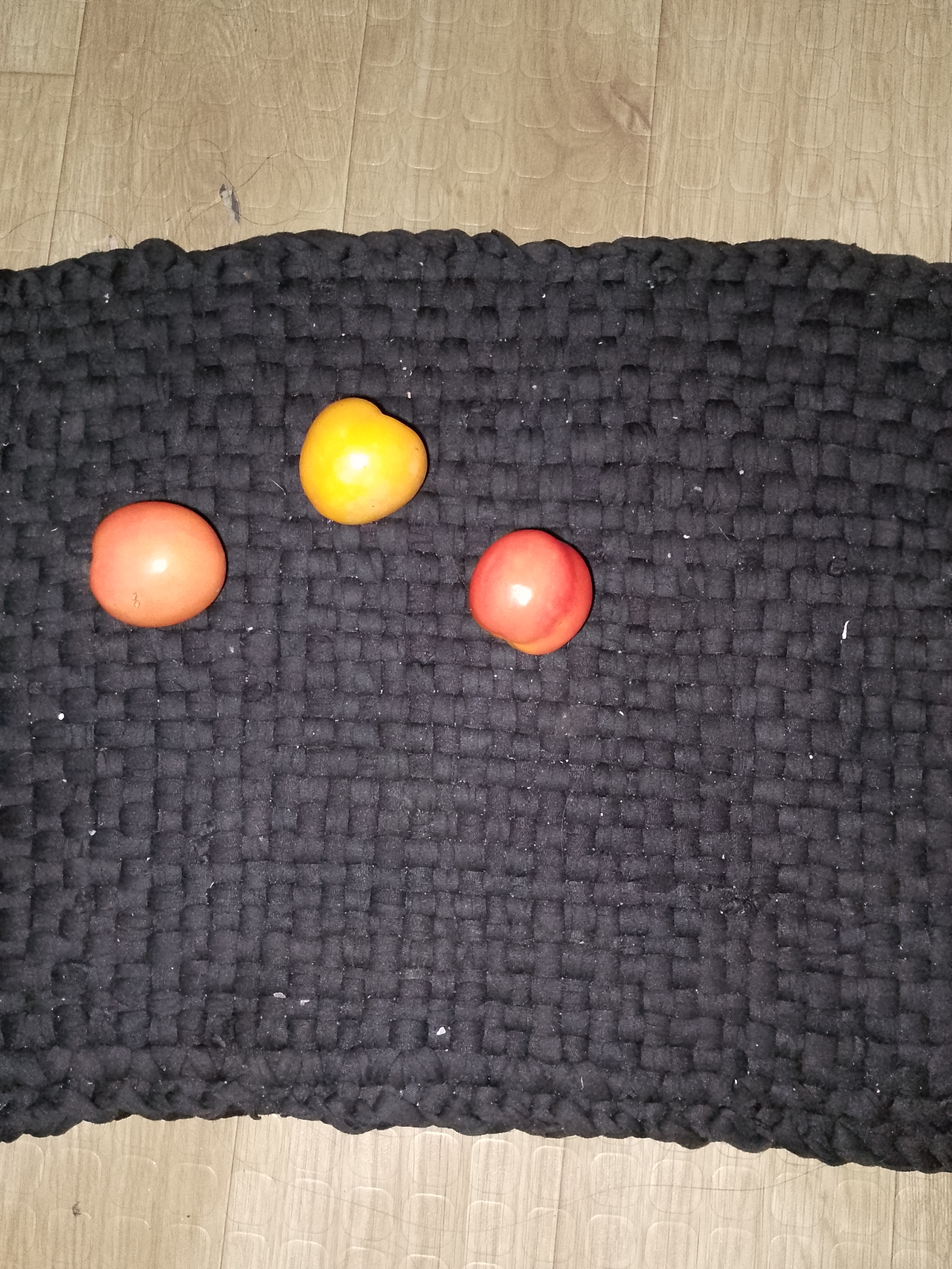Ripe: (446, 496, 636, 703), (67, 475, 244, 667)
Unripe: (270, 358, 457, 545)
